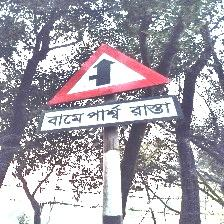Side-road-left: (41, 43, 181, 135)
